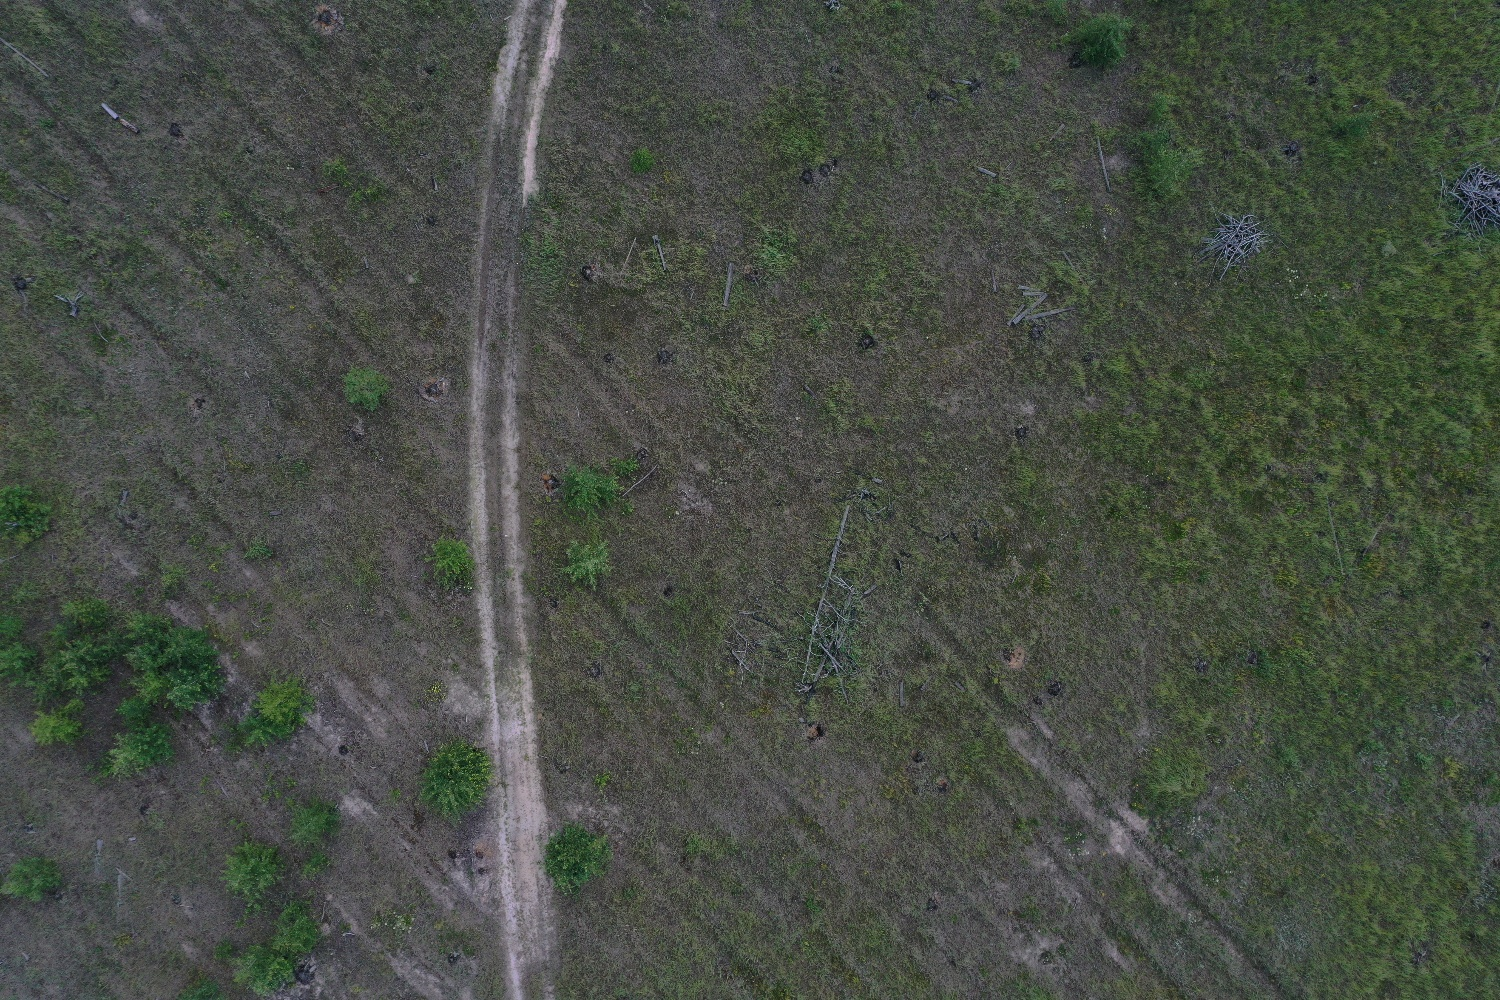branches: (1193, 213, 1288, 285), (1439, 163, 1500, 235)
